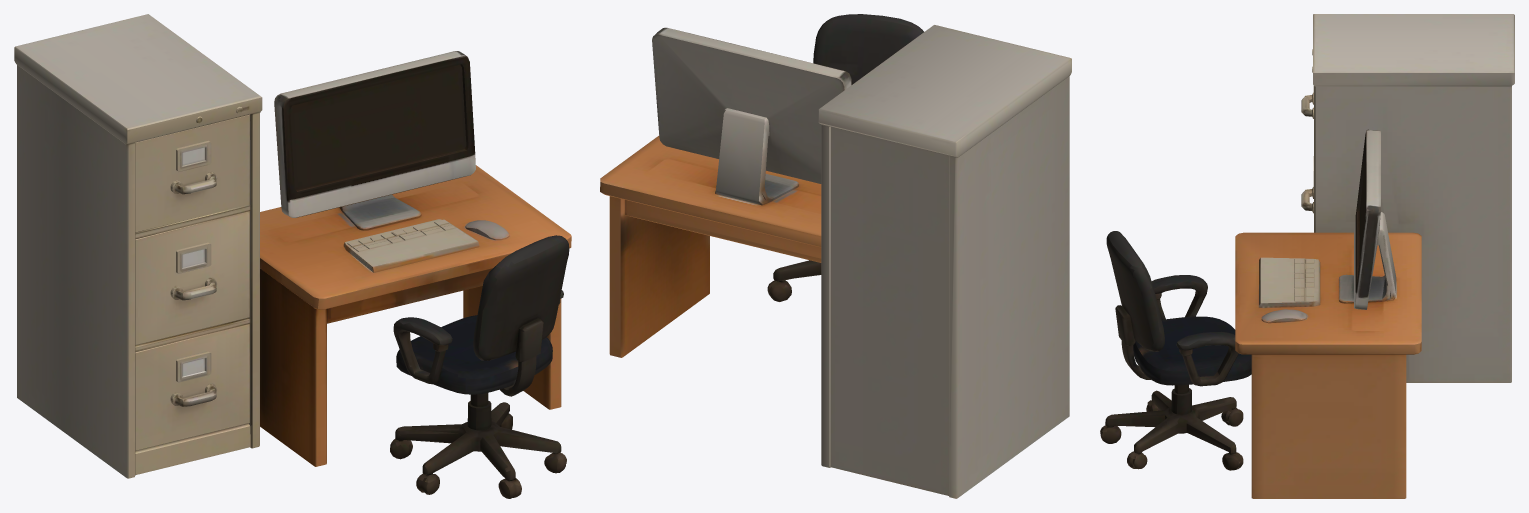
Rendered from Inside__FillingCabinetDeskComputer4.cluster.glb.
The picture shows the model from 3 angles, left to right: view 1: azimuth 30°, elevation 25°; view 2: azimuth 150°, elevation 25°; view 3: azimuth 270°, elevation 25°; orthographic projection. The views are drawn at different scales.
Visible parts, largest first — view 1: FillingCabinetDeskComputer4; view 2: FillingCabinetDeskComputer4; view 3: FillingCabinetDeskComputer4.
Part boxes in pixels (x1,y1,x2,y2): FillingCabinetDeskComputer4: (14,14,571,498); FillingCabinetDeskComputer4: (600,14,1071,498); FillingCabinetDeskComputer4: (1100,14,1514,498).
Size of the model in its own units: 1.9 by 1.58 by 1.9.
Materials: 1 (1 with a texture image).
